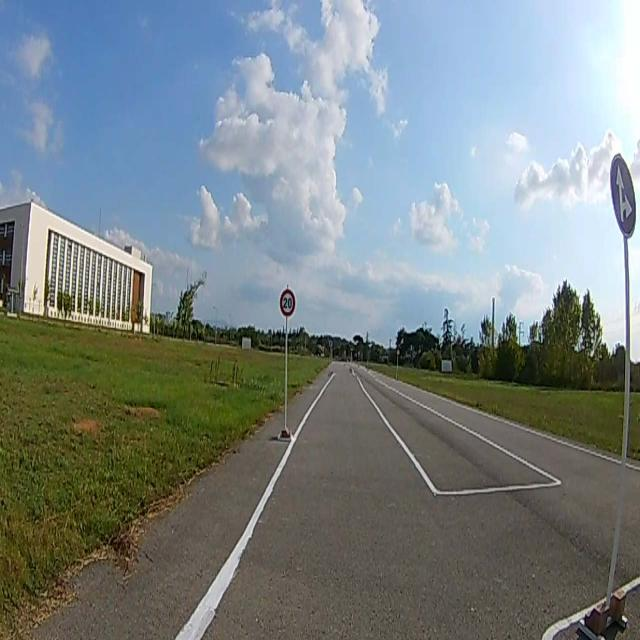20: (280, 288, 296, 316)
ilerisag: (610, 152, 636, 232)
